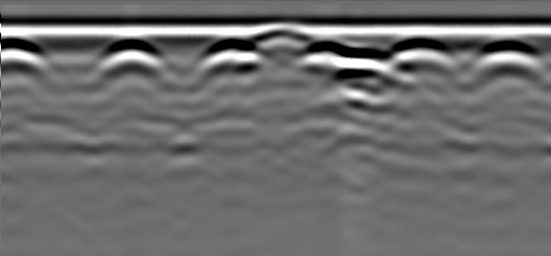pipe: (251, 23, 313, 41)
steel: (475, 38, 538, 80), (99, 41, 162, 80), (392, 35, 453, 73), (202, 39, 260, 76), (1, 35, 47, 75), (298, 39, 349, 74)
